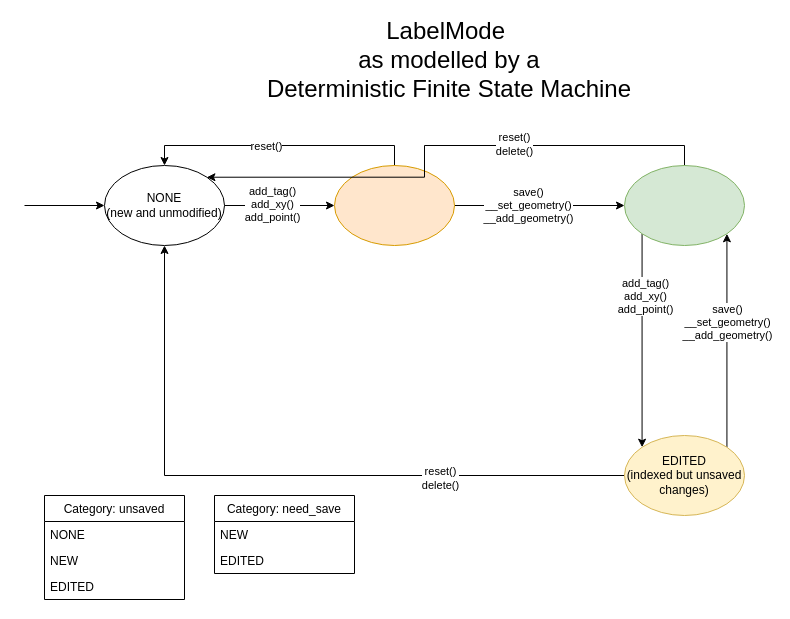
Image size: 790x619. Some labels were removed from this diagram. Each missing label, with the centre of its shape:
"NEW (new and modified)" goes at point 394,205.
"SAVED (saved and indexed)" goes at point 684,205.
